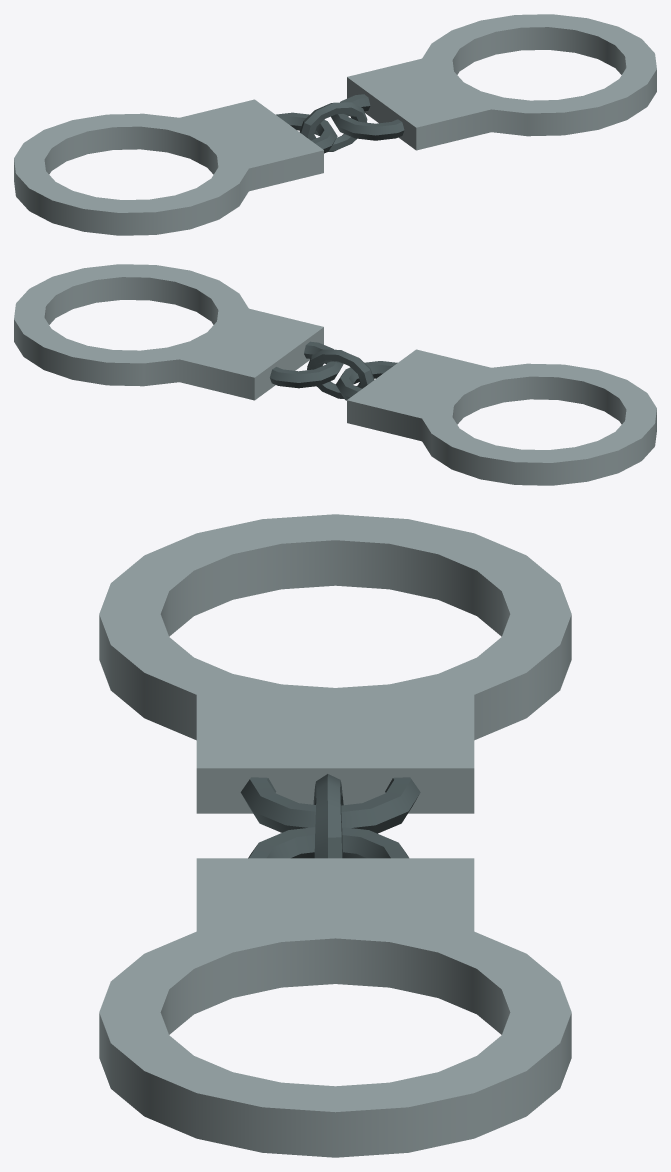
The model's file is Handcuffs.fbx.
The picture shows the model from 3 angles, top to bottom: view 1: azimuth 30°, elevation 25°; view 2: azimuth 150°, elevation 25°; view 3: azimuth 270°, elevation 25°; orthographic projection. The views are drawn at different scales.
Visible parts, largest first — view 1: handcuffs; view 2: handcuffs; view 3: handcuffs.
Boxes of the visible parts, <box> form: handcuffs: <box>14,14,656,235</box>; handcuffs: <box>14,264,656,485</box>; handcuffs: <box>99,514,571,1157</box>.
Size of the model in its own units: 0.7761 by 0.0594 by 0.2592.
